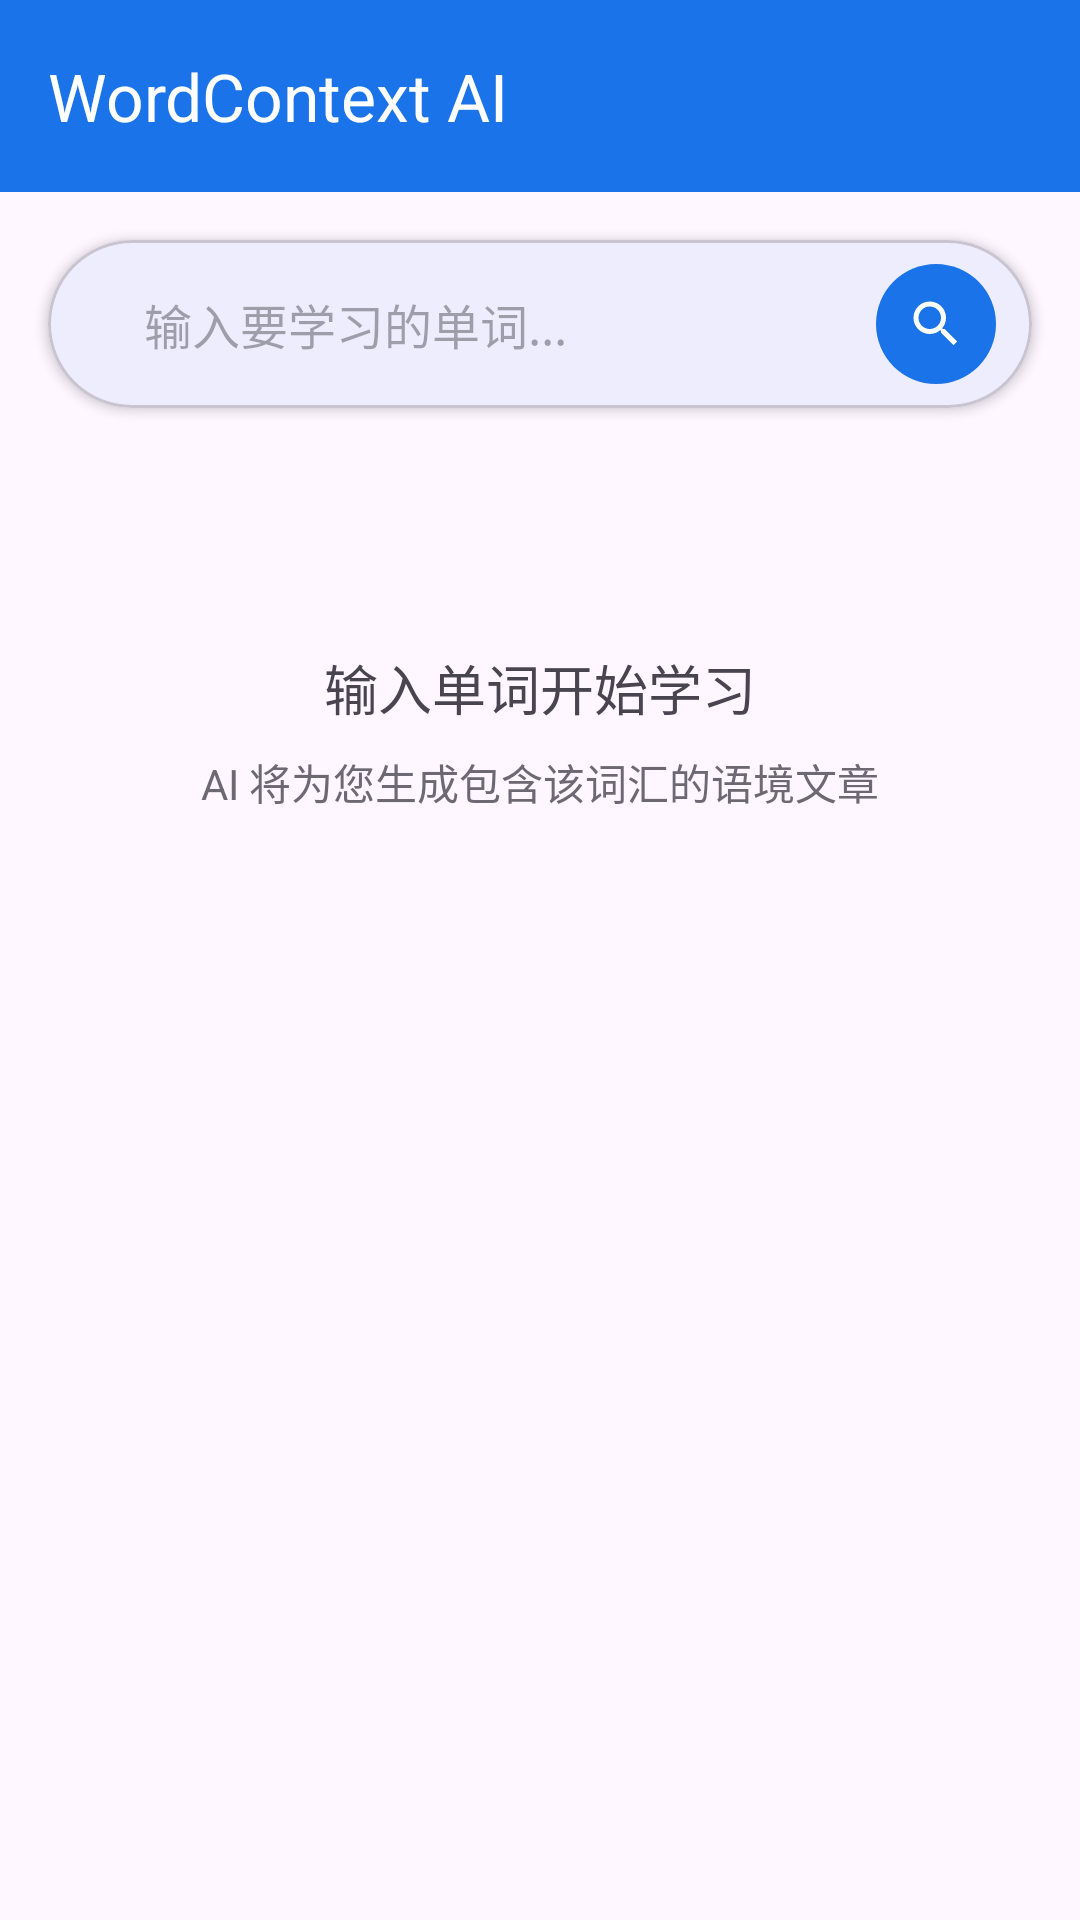

Screen size 1080px×1920px. Icon name, then its center in pixels as point (x, y):
search: point (936, 324)
